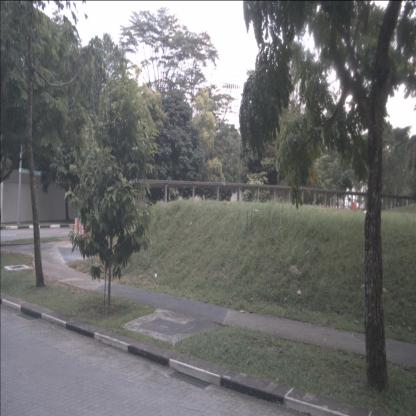barrier: (74, 217, 107, 245)
